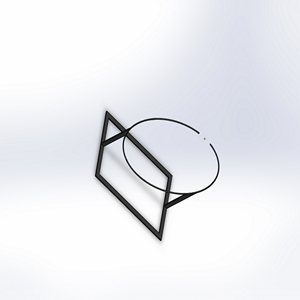circle: (91, 106, 223, 240)
